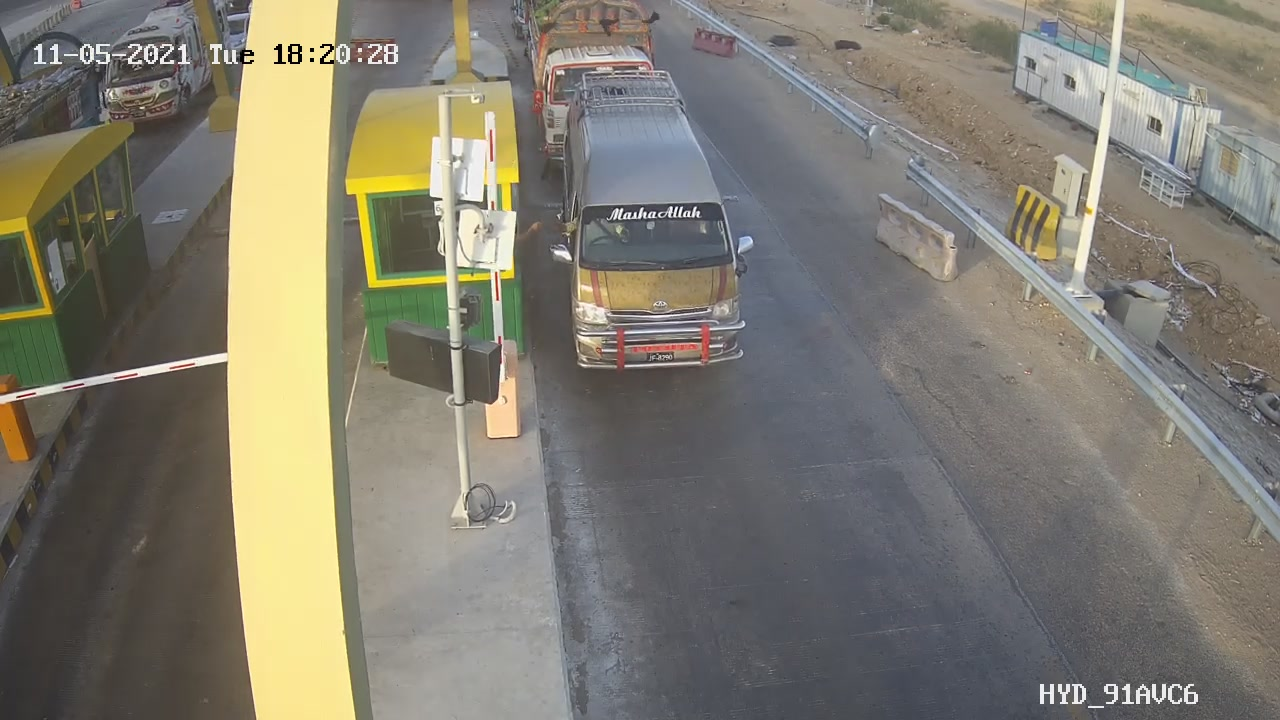F2: (548, 68, 774, 370)
